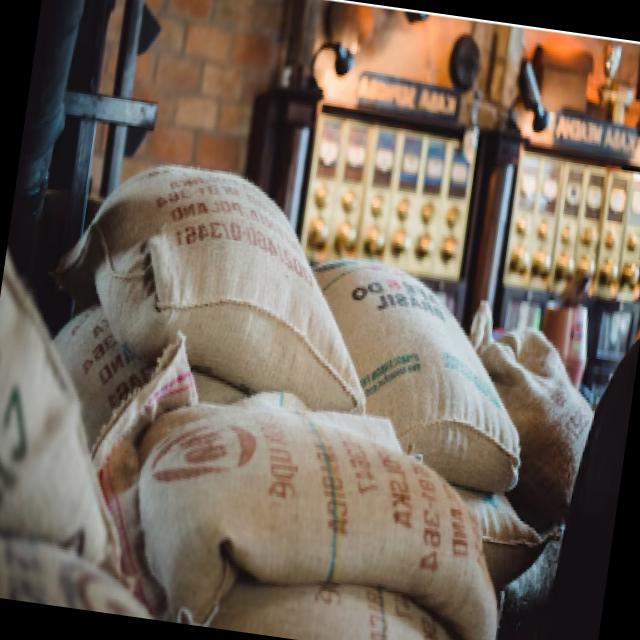KantongSemen: (122, 392, 526, 640), (38, 148, 391, 422), (284, 247, 545, 490)
